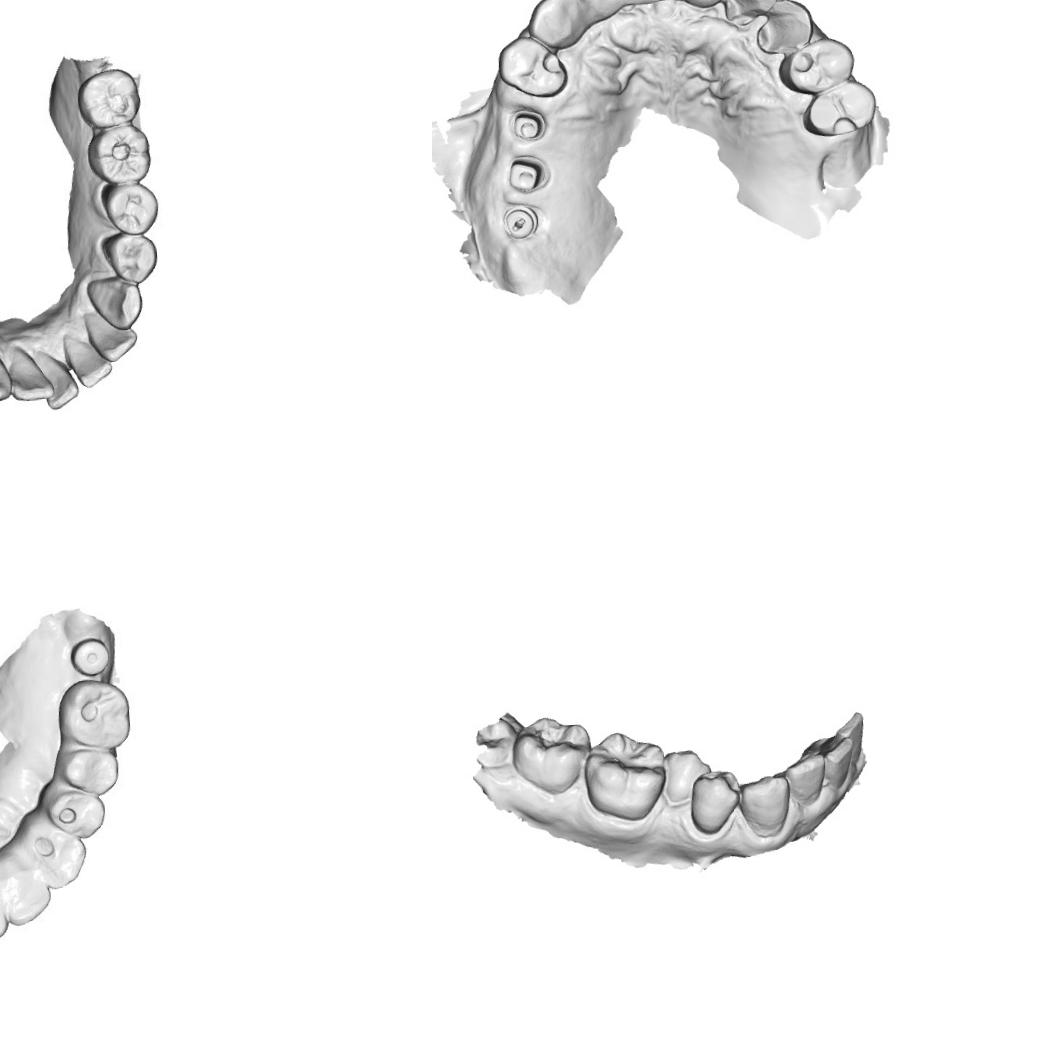abutment: (504, 154, 548, 195), (508, 108, 547, 144)
canine: (27, 824, 90, 888), (735, 770, 791, 842), (753, 0, 815, 55), (524, 0, 586, 51), (86, 276, 142, 331), (0, 338, 10, 407)
implant: (68, 634, 114, 676)
implant_minus: (498, 202, 539, 240)
incisor: (0, 852, 53, 931), (87, 314, 141, 367), (65, 333, 114, 391), (32, 352, 80, 408), (4, 346, 50, 404), (782, 752, 827, 810), (819, 736, 857, 792), (833, 708, 867, 764), (720, 0, 780, 26), (568, 0, 621, 20)
molar: (582, 728, 672, 826), (508, 713, 587, 796), (54, 674, 137, 750), (77, 122, 156, 184), (73, 61, 145, 128)
premolar: (494, 31, 570, 102), (775, 33, 856, 96), (799, 76, 878, 139), (686, 763, 742, 834), (658, 746, 718, 803), (100, 184, 163, 236), (101, 230, 159, 286), (64, 742, 122, 796), (54, 788, 104, 838)
